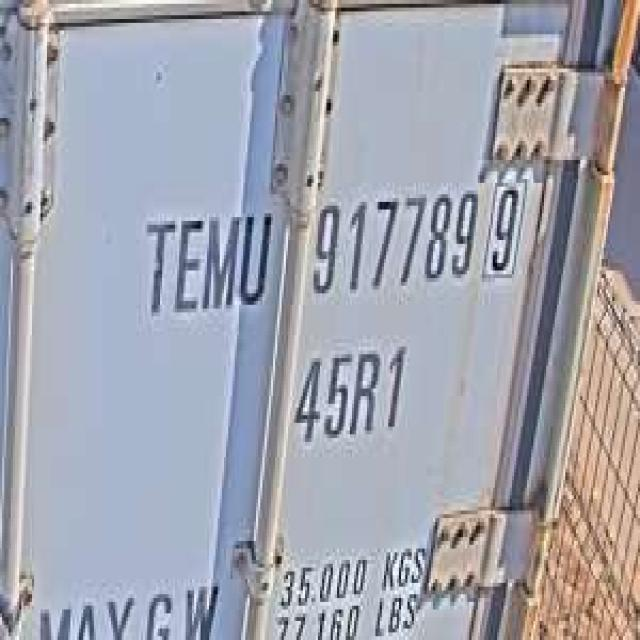dv: (482, 168, 529, 282)
owner: (134, 194, 273, 328)
serial: (305, 175, 480, 305)
size: (288, 335, 412, 450)
